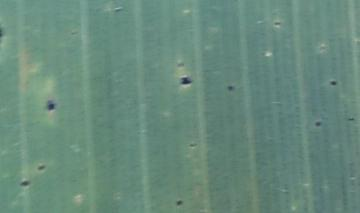tarspot: (180, 75, 192, 86), (46, 100, 56, 112), (20, 178, 31, 186), (113, 6, 123, 13), (177, 60, 185, 68), (176, 199, 184, 206), (330, 79, 337, 87), (227, 85, 234, 92), (273, 20, 280, 27), (315, 120, 322, 127), (37, 164, 45, 170), (350, 114, 356, 122), (189, 143, 197, 149), (1, 27, 4, 42)
